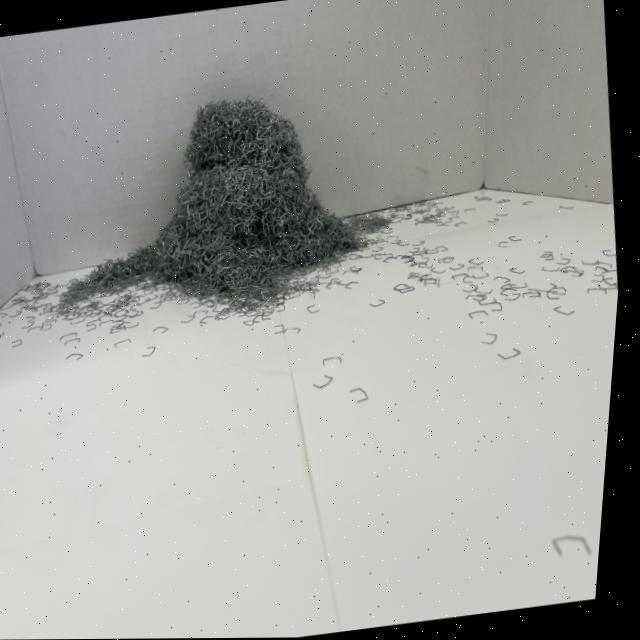staples: (36, 77, 384, 321)
